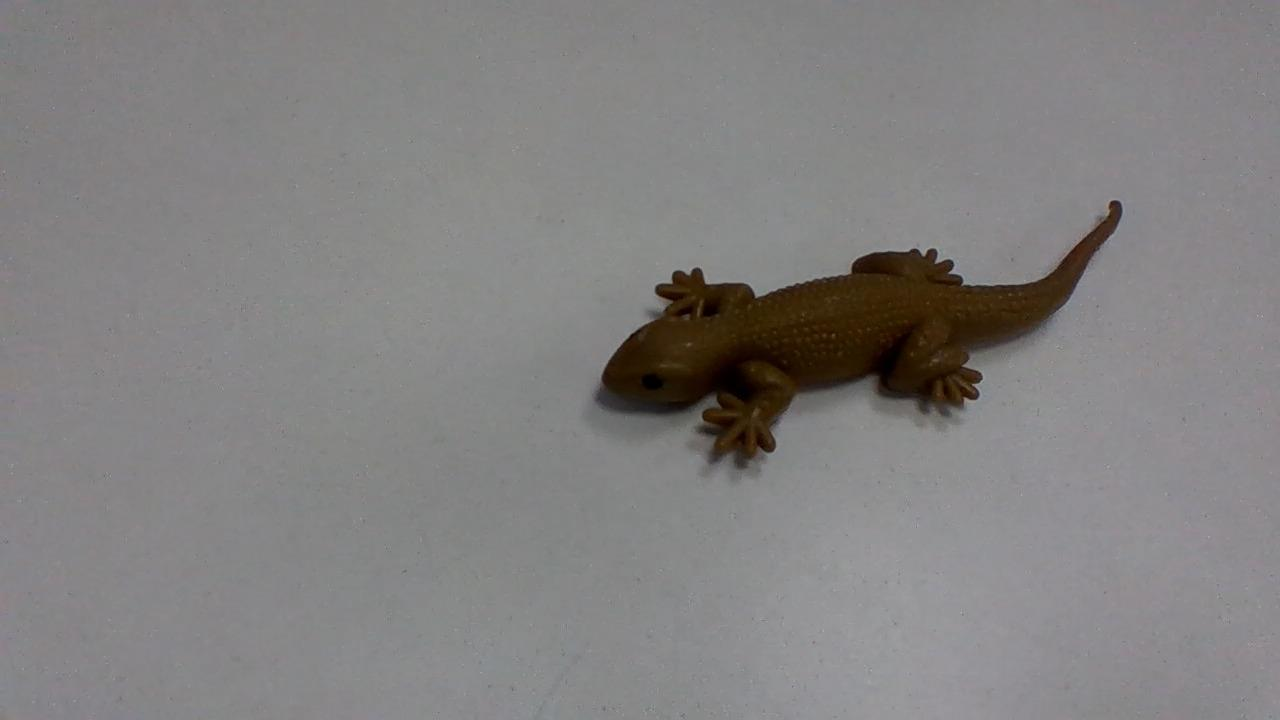lizard: (580, 186, 1107, 453)
